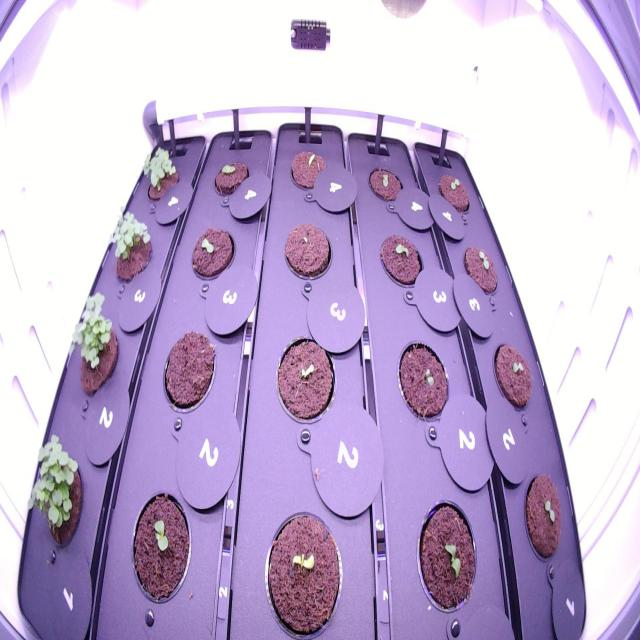germination: (253, 505, 350, 636), (122, 479, 196, 614), (18, 427, 89, 555), (413, 493, 480, 620), (271, 324, 342, 435), (60, 285, 125, 399), (394, 334, 454, 433), (520, 464, 565, 572), (105, 201, 157, 292), (489, 330, 536, 420), (374, 226, 430, 297), (136, 136, 185, 209), (185, 222, 238, 287), (279, 138, 335, 195), (458, 232, 502, 304), (362, 157, 414, 209), (432, 164, 475, 221), (209, 153, 254, 205)
pod: (158, 318, 218, 422), (277, 215, 336, 294)
